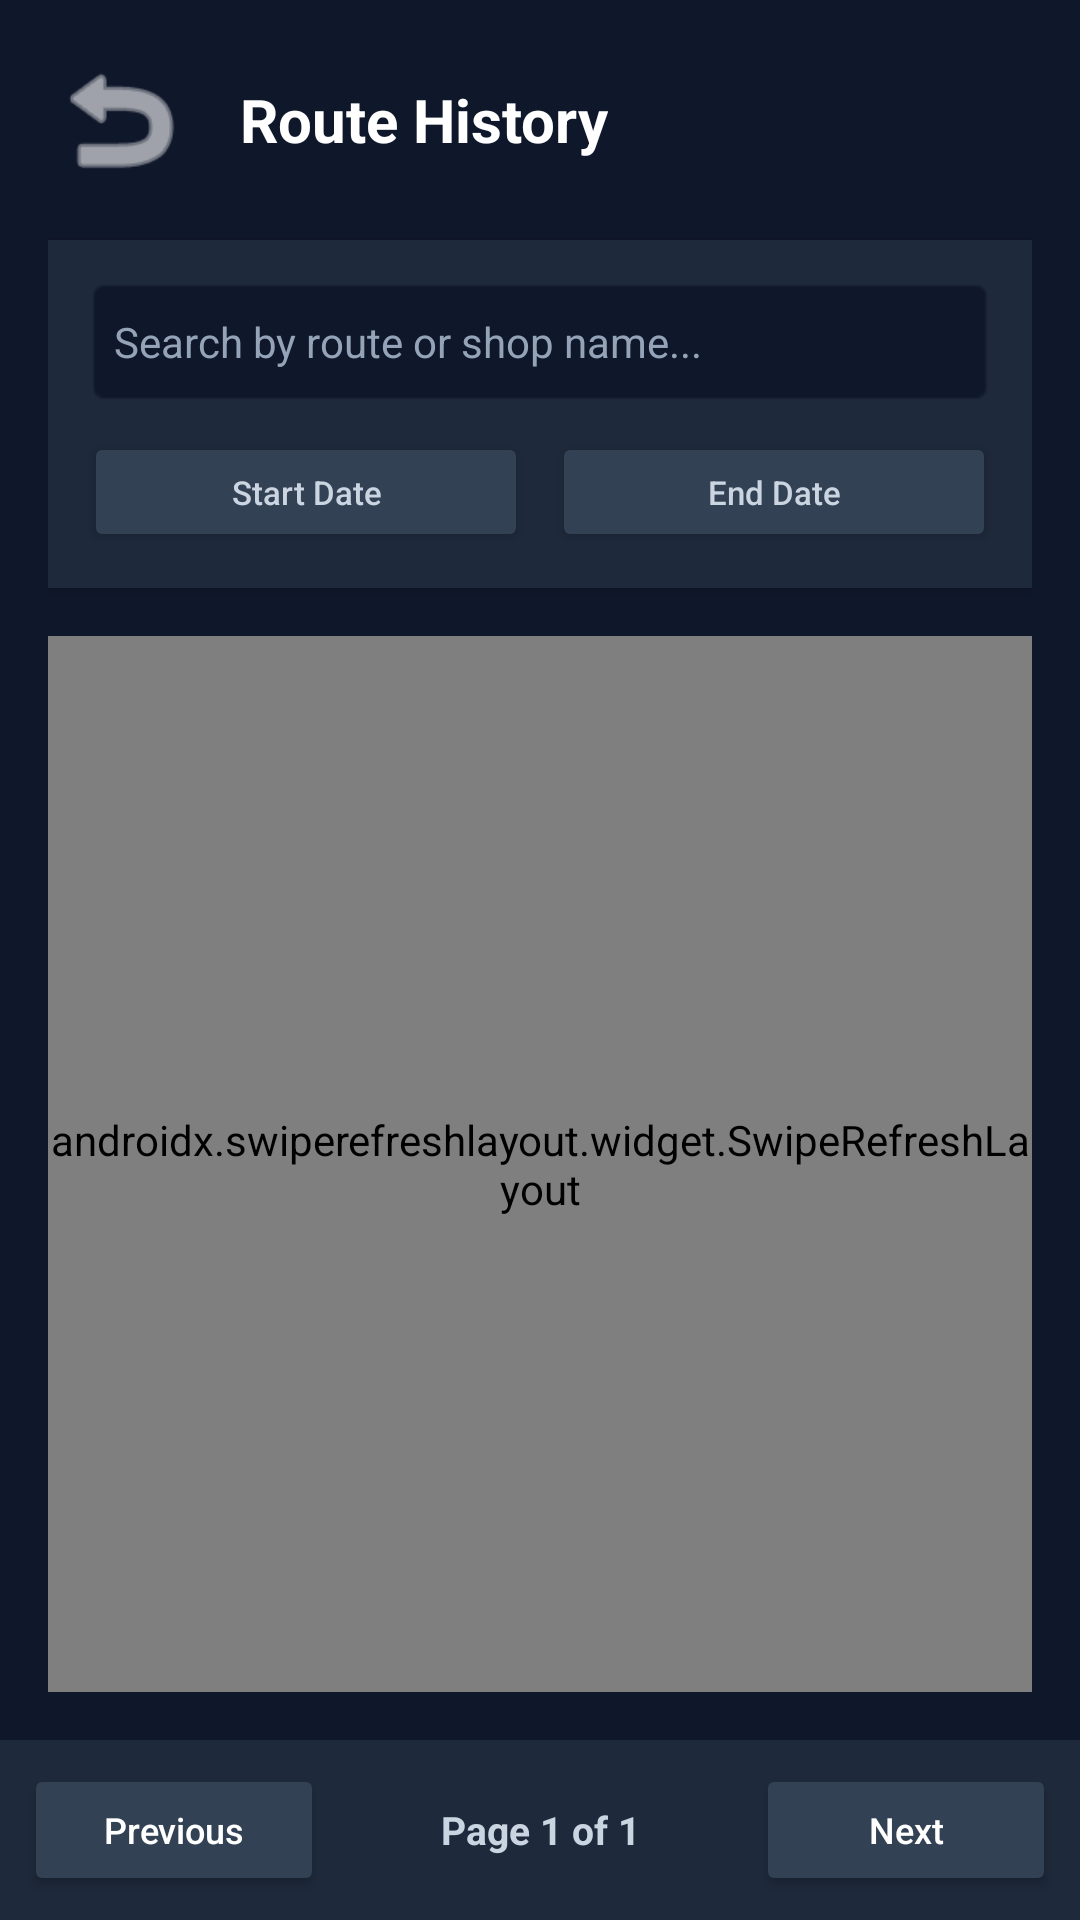

Screen size 1080 × 1920. Icon name, then its center in pixels as (x,y):
revert: (122,121)
